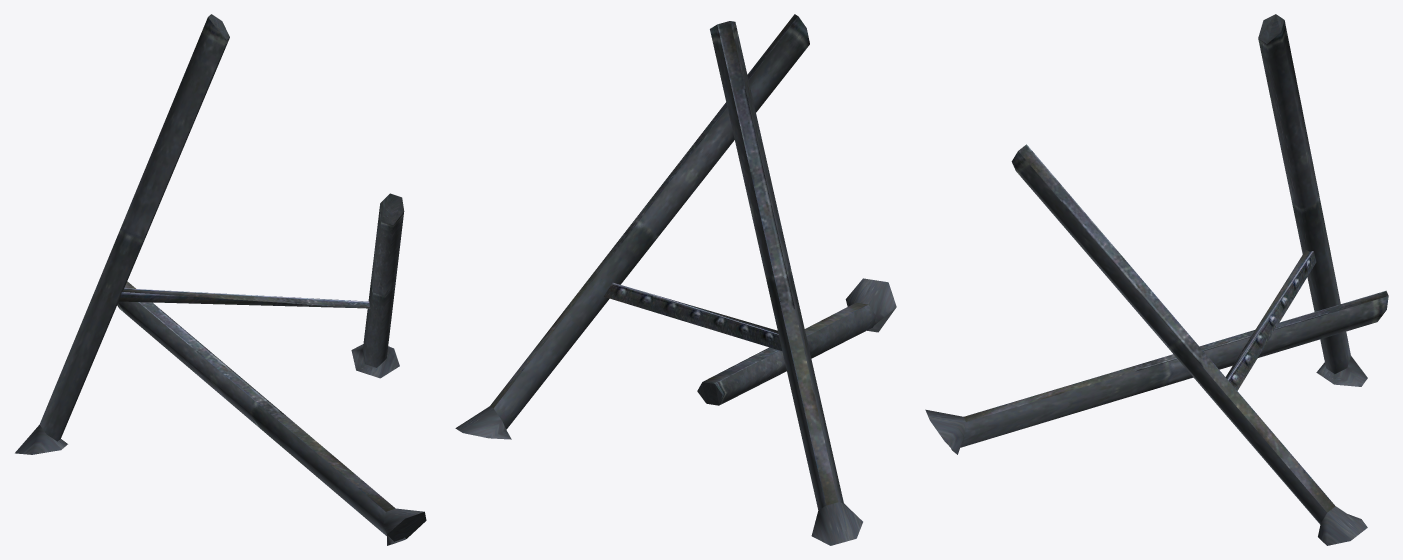
File: E50TriX.glb
3 renders of one model, left to right at view 1: azimuth 30°, elevation 25°; view 2: azimuth 150°, elevation 25°; view 3: azimuth 270°, elevation 25°, orthographic. The views are drawn at different scales.
Parts seen in each view (by area): view 1: _E50TriX; view 2: _E50TriX; view 3: _E50TriX.
Boxes of the visible parts, x1,y1,x2,y2 form: _E50TriX: [15, 14, 426, 545]; _E50TriX: [455, 14, 896, 545]; _E50TriX: [925, 14, 1388, 545].
Bounding box in the file's own units: 1.12 × 1.21 × 1.17.
1 material, 1 textured.
